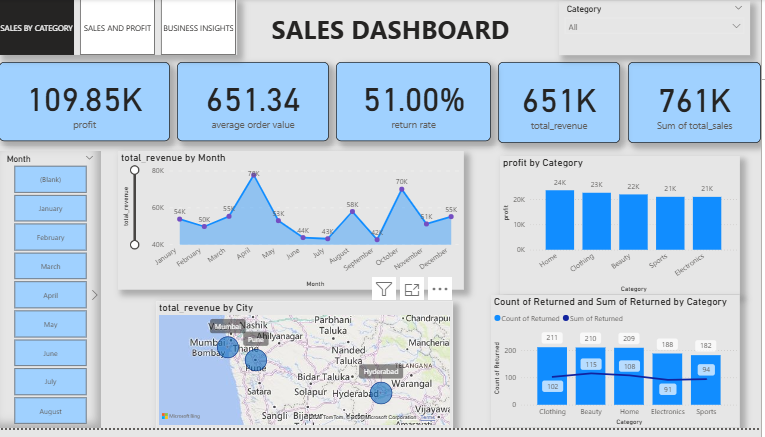

What the dashboard file says about the page in this screenshot:
{"tool":"powerbi","page":{"name":"SALES BY CATEGORY","canvas":[1280,720],"ordinal":0},"visuals":[{"type":"card","fields":{"Values":["Sum(ecommerce_case_study_data.total_sales)"]},"box":[1056.6,105.8,223.4,136.1],"z":0},{"type":"card","fields":{"Values":["ecommerce_case_study_data.profit"]},"box":[0,105.8,287.2,132.7],"z":1000},{"type":"card","fields":{"Values":["ecommerce_case_study_data.total_revenue"]},"box":[838.2,105.8,204.9,136.1],"z":2000},{"type":"card","fields":{"Values":["ecommerce_case_study_data.average order value"]},"box":[299,105.8,255.3,132.7],"z":3000},{"type":"card","fields":{"Values":["ecommerce_case_study_data.return rate"]},"box":[566.1,105.8,260.4,132.7],"z":4000},{"type":"textbox","box":[299,0,717.3,94.1],"z":5000},{"type":"slicer","fields":{"Values":["ecommerce_case_study_data.OrderDate.Variation.Date Hierarchy.Month"]},"box":[0,255.3,171.3,465.3],"z":6000},{"type":"lineChart","fields":{"Category":["ecommerce_case_study_data.OrderDate.Variation.Date Hierarchy.Month"],"Y":["ecommerce_case_study_data.total_revenue"]},"box":[199.9,255.3,581.2,233.5],"z":7000},{"type":"columnChart","fields":{"Category":["ecommerce_case_study_data.Category"],"Y":["ecommerce_case_study_data.profit"]},"box":[841.6,263.7,403.1,233.5],"z":8000},{"type":"map","fields":{"Size":["ecommerce_case_study_data.total_revenue"],"Category":["ecommerce_case_study_data.City"]},"box":[263.7,507.3,498.9,213.3],"z":9000},{"type":"slicer","fields":{"Values":["ecommerce_case_study_data.Category"]},"box":[940.7,3.4,320.8,90.7],"z":10000},{"type":"lineStackedColumnComboChart","fields":{"Category":["ecommerce_case_study_data.Category"],"Y":["CountNonNull(ecommerce_case_study_data.Returned)"],"Y2":["Sum(ecommerce_case_study_data.Returned)"]},"box":[826.5,497.2,418.3,223.4],"z":11000},{"type":"pageNavigator","box":[0,0,399.8,94.1],"z":12000}]}

Visuals, with their boxes in screenshot pixels (x1, y1, x2, y2), scaled from the page's 1280x720 canvas onto the 765x437 screenshot:
card - Sum(ecommerce_case_study_data.total_sales): bbox=(631, 64, 764, 147)
card - ecommerce_case_study_data.profit: bbox=(0, 64, 172, 145)
card - ecommerce_case_study_data.total_revenue: bbox=(501, 64, 623, 147)
card - ecommerce_case_study_data.average order value: bbox=(179, 64, 331, 145)
card - ecommerce_case_study_data.return rate: bbox=(338, 64, 494, 145)
textbox: bbox=(179, 0, 607, 57)
slicer - ecommerce_case_study_data.OrderDate.Variation.Date Hierarchy.Month: bbox=(0, 155, 102, 436)
lineChart - ecommerce_case_study_data.OrderDate.Variation.Date Hierarchy.Month x ecommerce_case_study_data.total_revenue: bbox=(119, 155, 467, 297)
columnChart - ecommerce_case_study_data.Category x ecommerce_case_study_data.profit: bbox=(503, 160, 744, 302)
map - ecommerce_case_study_data.total_revenue x ecommerce_case_study_data.City: bbox=(158, 308, 456, 436)
slicer - ecommerce_case_study_data.Category: bbox=(562, 2, 754, 57)
lineStackedColumnComboChart - ecommerce_case_study_data.Category x CountNonNull(ecommerce_case_study_data.Returned): bbox=(494, 302, 744, 436)
pageNavigator: bbox=(0, 0, 239, 57)
